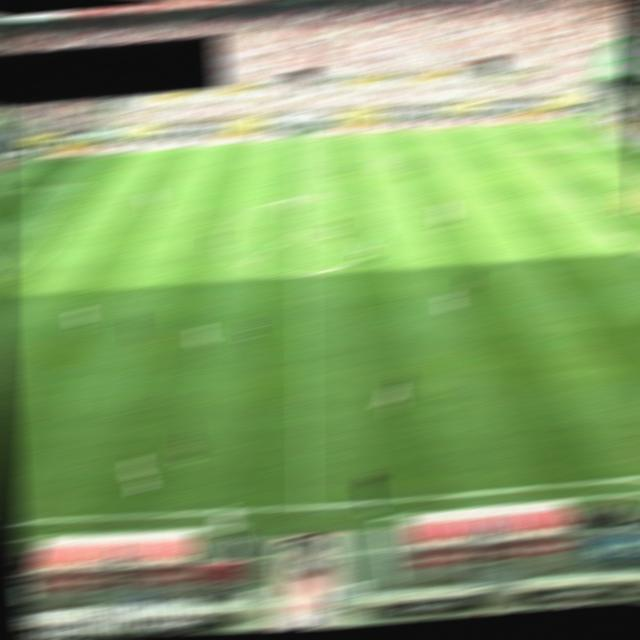bigarea_top_inner: (517, 146, 542, 158), (68, 180, 90, 191)
bigarea_top_outter: (614, 141, 638, 153)
bottom_arc_area_intersection: (608, 234, 633, 248)
corner: (12, 156, 36, 167), (576, 117, 596, 125)
halfcircle_bottom: (293, 269, 315, 280)
halfcircle_top: (292, 192, 315, 204)
midline_bottom_intersection: (295, 499, 318, 513)
midline_top_intersection: (292, 133, 314, 145)
smallarea_top_inner: (620, 171, 640, 182)
top_arc_area_intersection: (33, 219, 56, 230), (554, 181, 576, 191)
